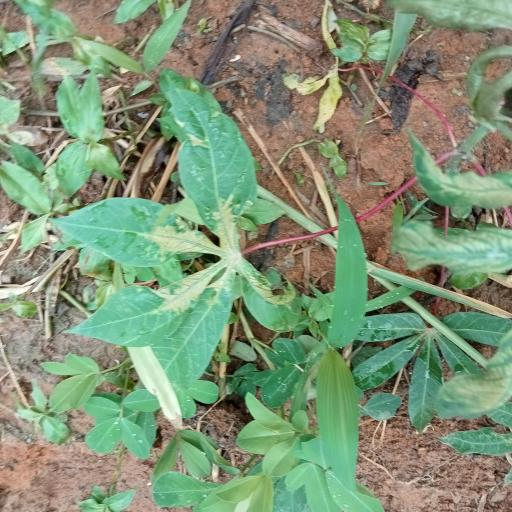Cassava_Mosaic: (62, 91, 255, 382)
